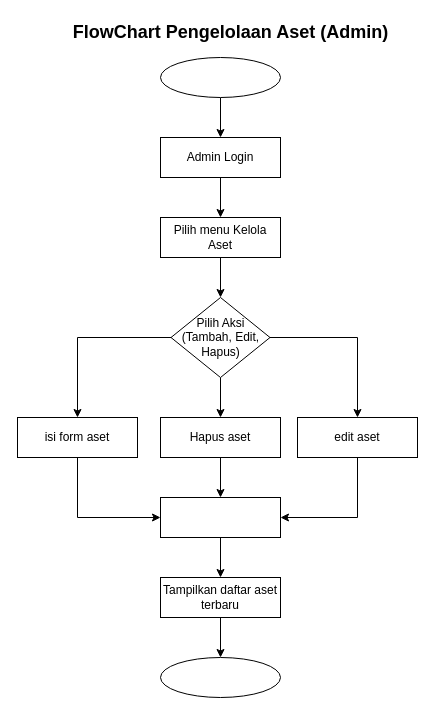
Image size: 435x715. Some labels were removed from this diagram. The shapes that lost their labels are listed below. From the top down, each one's centre as x and y in pixels, then its label:
pixel 220 77: Mulai
pixel 220 517: Konfirmasi
pixel 220 677: Selesai
